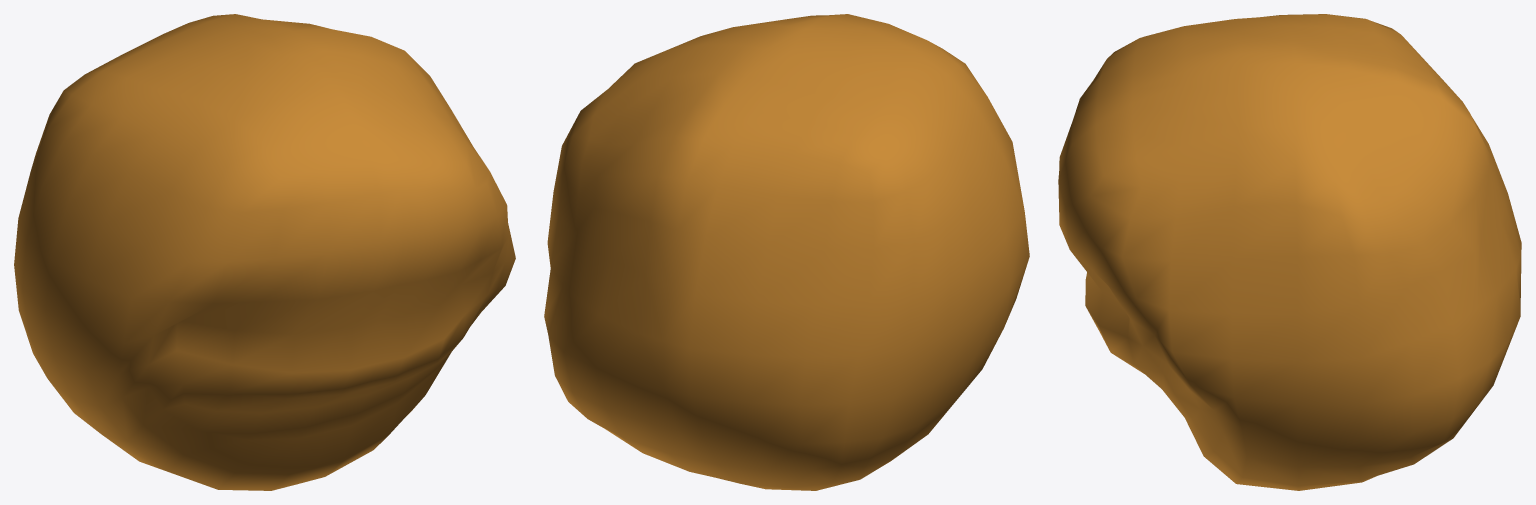
The model's file is Hair_4.fbx.
The picture shows the model from 3 angles, left to right: view 1: azimuth 30°, elevation 25°; view 2: azimuth 150°, elevation 25°; view 3: azimuth 270°, elevation 25°; orthographic projection. The views are drawn at different scales.
Visible parts, largest first — view 1: hair_04; view 2: hair_04; view 3: hair_04.
Part boxes in pixels (x1,y1,x2,y2): hair_04: (14, 14, 515, 490); hair_04: (544, 14, 1029, 490); hair_04: (1058, 14, 1521, 490).
Size of the model in its own units: 36.89 by 36.4 by 36.14.
